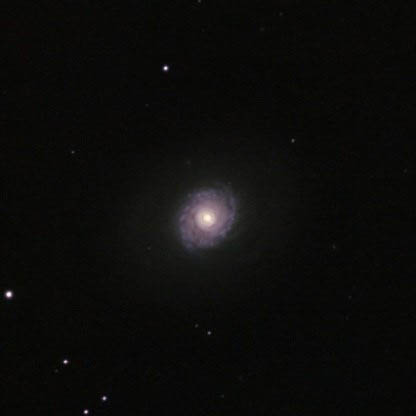Messier 94: (139, 164, 282, 271)
